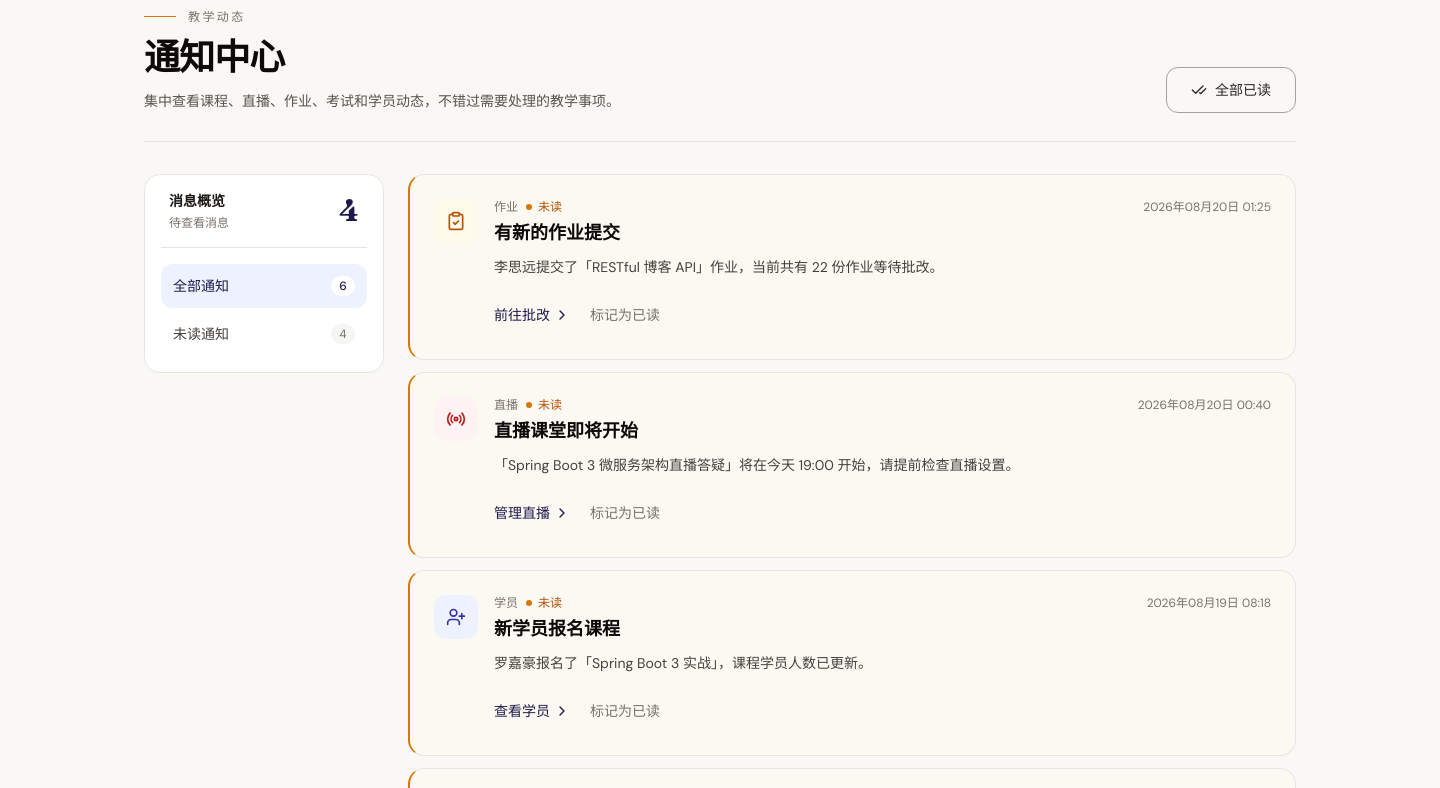
Scenario: Notifications › 可以筛选未读通知并单独标记为已读
Step 1. Click the button "未读通知 4" → (264, 334), box [161,312,367,356]
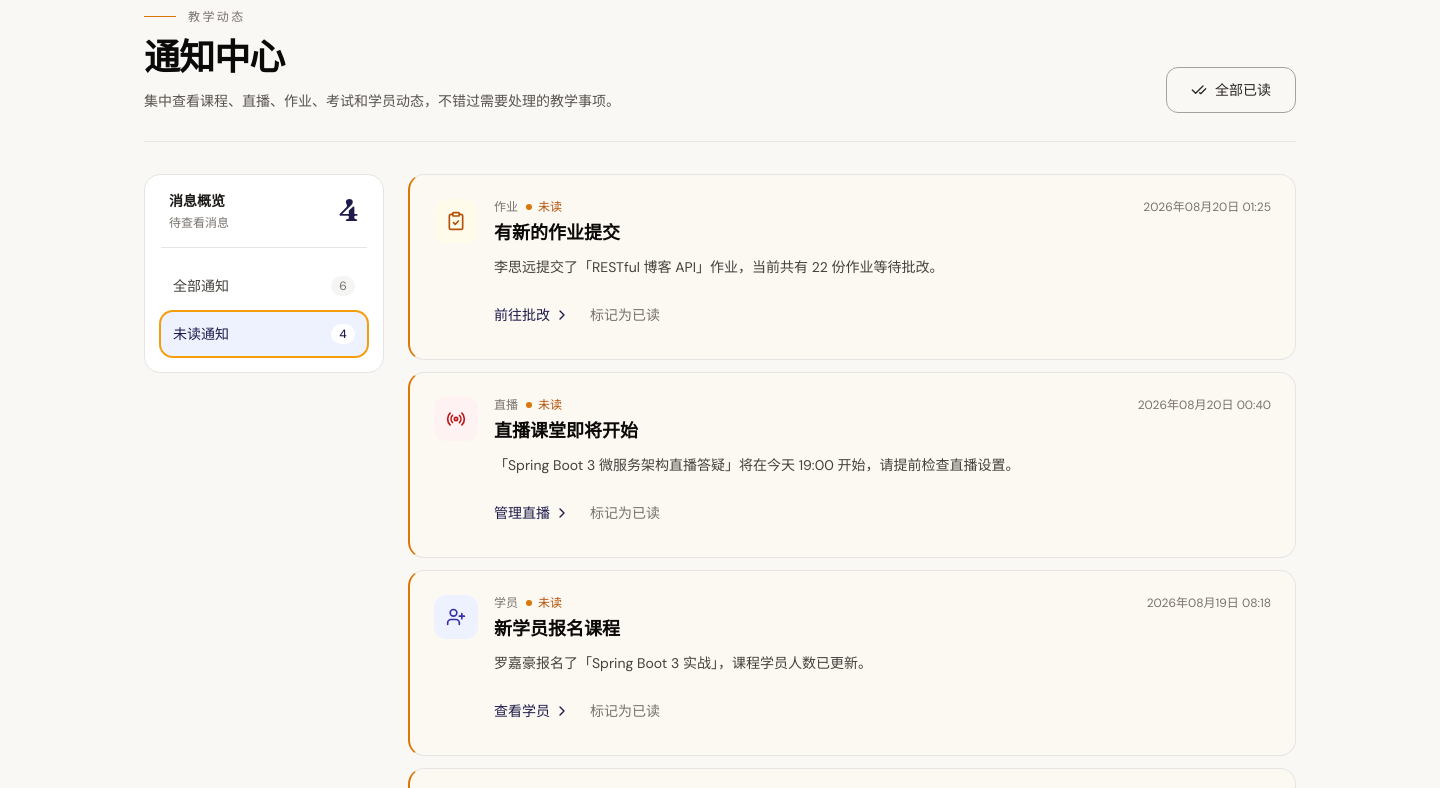
Step 2. Click the button with aria-label "标记「有新的作业提交」为已读" → (625, 314), box [590,294,660,334]
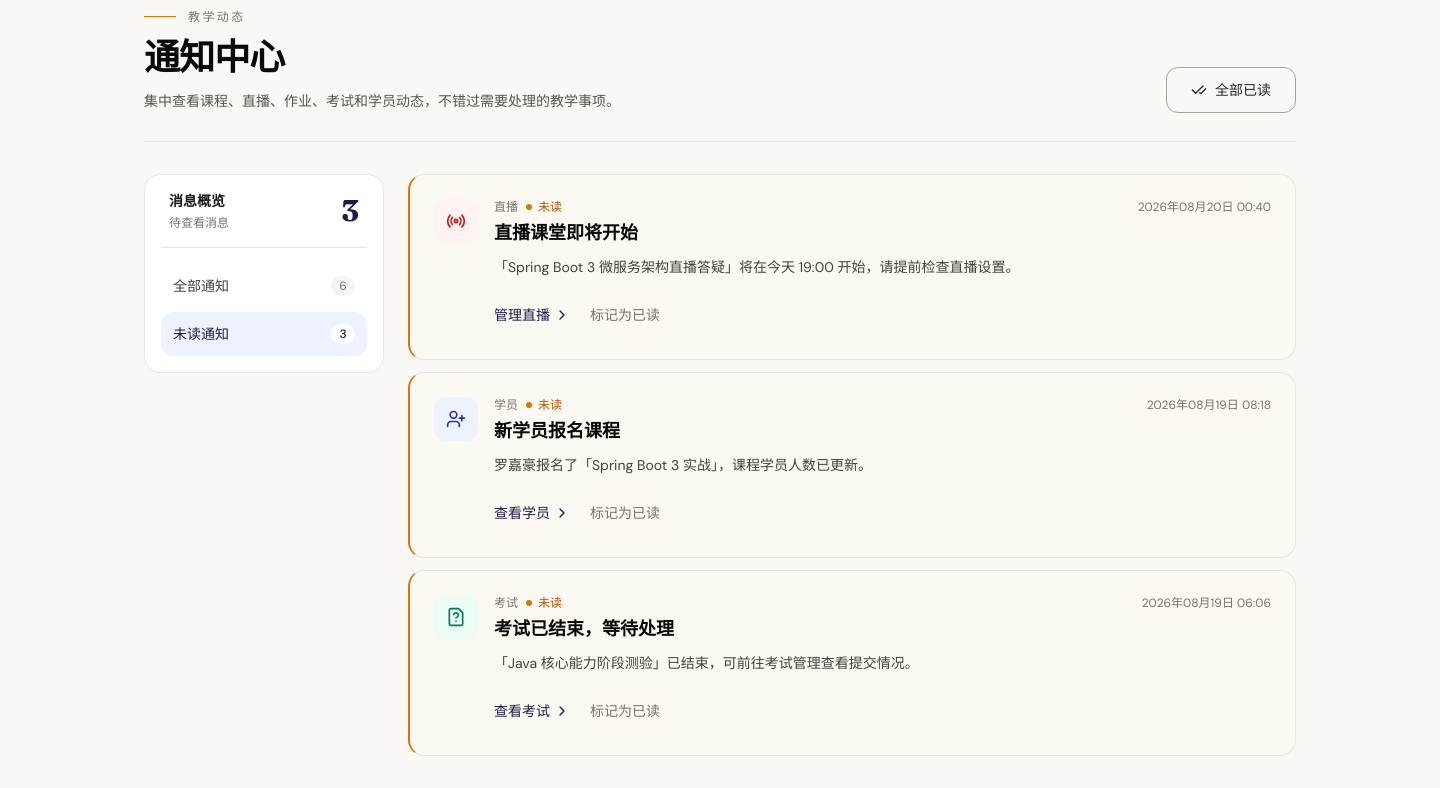
Now the heading "有新的作业提交" is gone
Now the button "未读通知 3" is shown, box [161,312,367,356]
